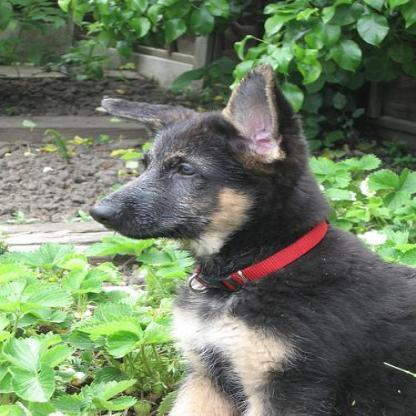german shepherd: (80, 60, 416, 416)
